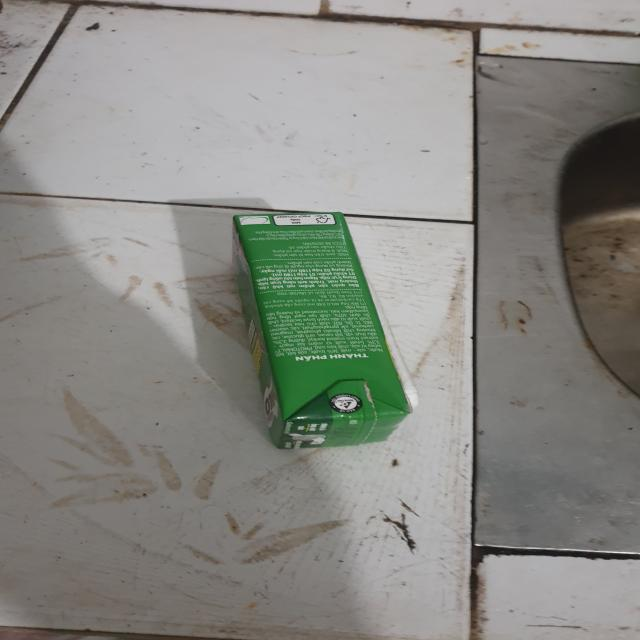Milo: (225, 209, 419, 459)
